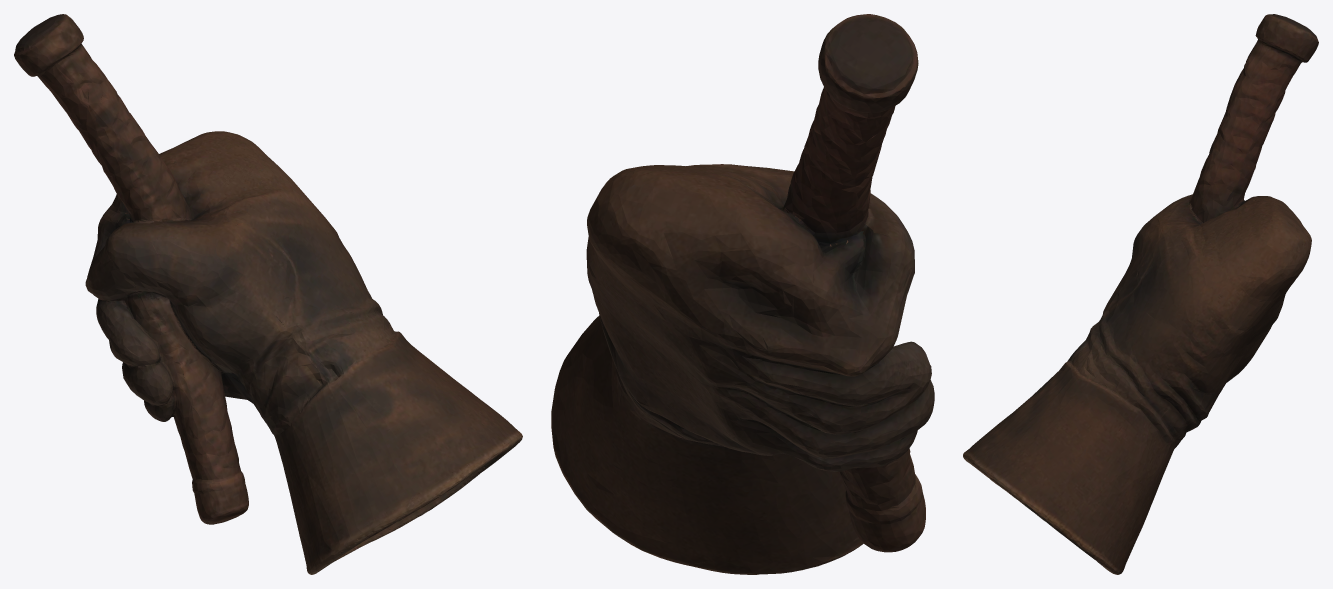
The model's file is glove-hd4.glb.
The picture shows the model from 3 angles, left to right: view 1: azimuth 30°, elevation 25°; view 2: azimuth 150°, elevation 25°; view 3: azimuth 270°, elevation 25°; orthographic projection. The views are drawn at different scales.
Parts seen in each view (by area): view 1: tmpg18m137a.ply; view 2: tmpg18m137a.ply; view 3: tmpg18m137a.ply.
Part boxes in pixels (x1=…): tmpg18m137a.ply: x1=14, y1=14, x2=522, y2=574; tmpg18m137a.ply: x1=551, y1=14, x2=934, y2=574; tmpg18m137a.ply: x1=963, y1=14, x2=1318, y2=574.
Size of the model in its own units: 1.52 by 1.99 by 1.42.
1 material, 1 textured.
